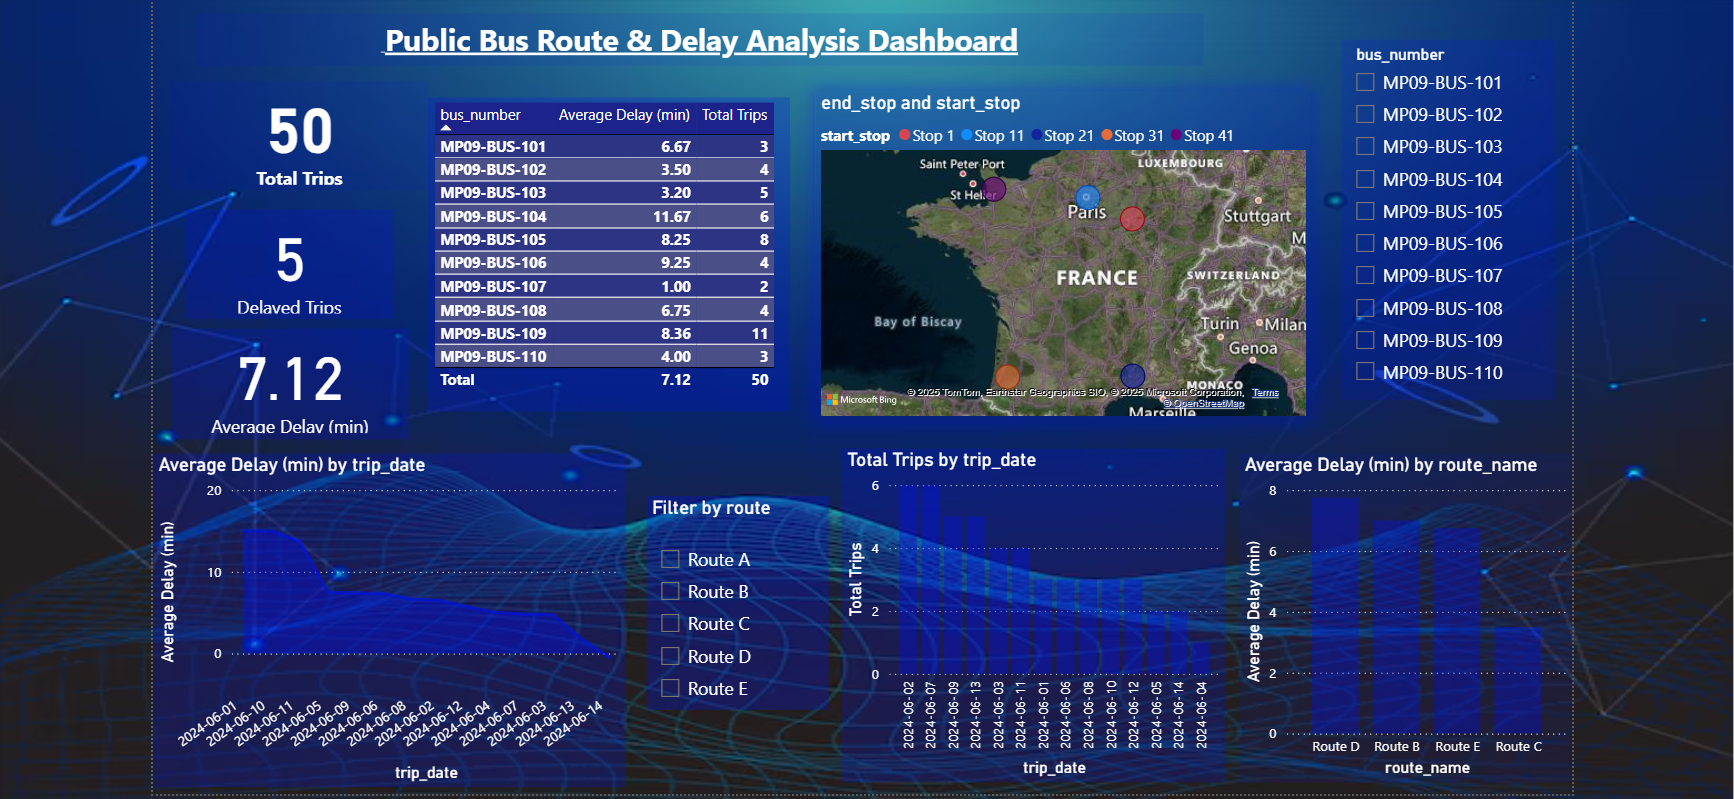

Layout of this report page (visuals, bound fields, positions):
{"tool":"powerbi","page":{"name":"Page 1","canvas":[1280,720],"ordinal":0},"visuals":[{"type":"columnChart","fields":{"Category":["public_transport routes.route_name"],"Y":["public_transport trip_logs.Average Delay (min)"]},"box":[979.1,412.8,301.2,296.5],"z":0},{"type":"clusteredColumnChart","fields":{"Y":["public_transport trip_logs.Total Trips"],"Category":["public_transport trip_logs.trip_date"]},"box":[620.9,408.1,345.3,301.2],"z":1},{"type":"map","fields":{"Series":["public_transport routes.start_stop"],"Category":["public_transport routes.end_stop"]},"box":[596.8,85.4,447.3,297.8],"z":2},{"type":"stackedAreaChart","fields":{"Category":["public_transport trip_logs.trip_date"],"Y":["public_transport trip_logs.Average Delay (min)"]},"box":[0,412.8,426.7,301.2],"z":3},{"type":"tableEx","fields":{"Values":["public_transport buses.bus_number","public_transport trip_logs.Average Delay (min)","public_transport trip_logs.Total Trips"]},"box":[248,91.4,326.3,283.6],"z":4},{"type":"slicer","fields":{"Values":["public_transport buses.bus_number"]},"box":[1071.4,39.2,192.2,325.1],"z":5},{"type":"slicer","title":"Filter by route","fields":{"Values":["public_transport routes.route_name"]},"box":[445.4,451.2,164,193],"z":6},{"type":"card","fields":{"Values":["public_transport trip_logs.Total Trips"]},"box":[15.4,77.1,232.6,98.5],"z":7},{"type":"card","fields":{"Values":["public_transport trip_logs.Average Delay (min)"]},"box":[16.6,300.2,213.6,99.7],"z":8},{"type":"card","fields":{"Values":["public_transport trip_logs.Delayed Trips"]},"box":[29.7,192.2,187.5,98.5],"z":9},{"type":"textbox","box":[38,15.4,908.9,47.5],"z":10}]}

Visuals, with their boxes on the page's 1280x720 design canvas (x1, y1, x2, y2). These are canvas units, not pixel positions in the 1734x799 screenshot, which may show the page scaled, cropped or inside an application window:
columnChart - public_transport routes.route_name x public_transport trip_logs.Average Delay (min): bbox=[979, 413, 1280, 709]
clusteredColumnChart - public_transport trip_logs.Total Trips x public_transport trip_logs.trip_date: bbox=[621, 408, 966, 709]
map - public_transport routes.start_stop x public_transport routes.end_stop: bbox=[597, 85, 1044, 383]
stackedAreaChart - public_transport trip_logs.trip_date x public_transport trip_logs.Average Delay (min): bbox=[0, 413, 427, 714]
tableEx - public_transport buses.bus_number x public_transport trip_logs.Average Delay (min): bbox=[248, 91, 574, 375]
slicer - public_transport buses.bus_number: bbox=[1071, 39, 1264, 364]
"Filter by route" slicer: bbox=[445, 451, 609, 644]
card - public_transport trip_logs.Total Trips: bbox=[15, 77, 248, 176]
card - public_transport trip_logs.Average Delay (min): bbox=[17, 300, 230, 400]
card - public_transport trip_logs.Delayed Trips: bbox=[30, 192, 217, 291]
textbox: bbox=[38, 15, 947, 63]
